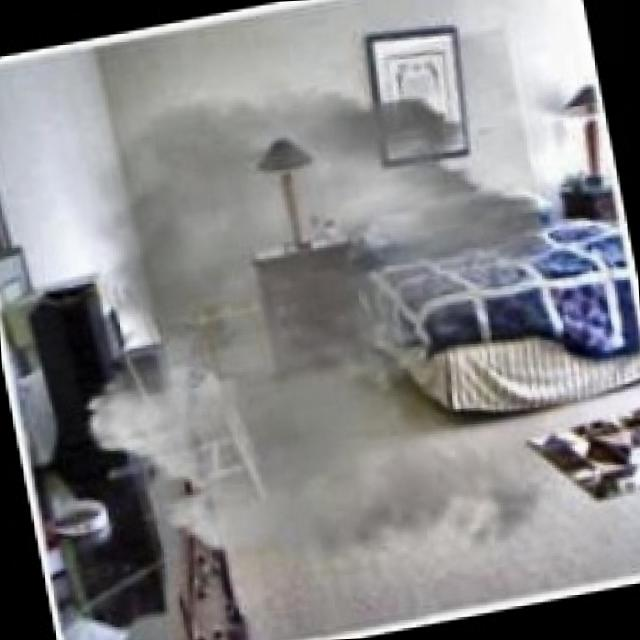smoke: (162, 62, 503, 456)
